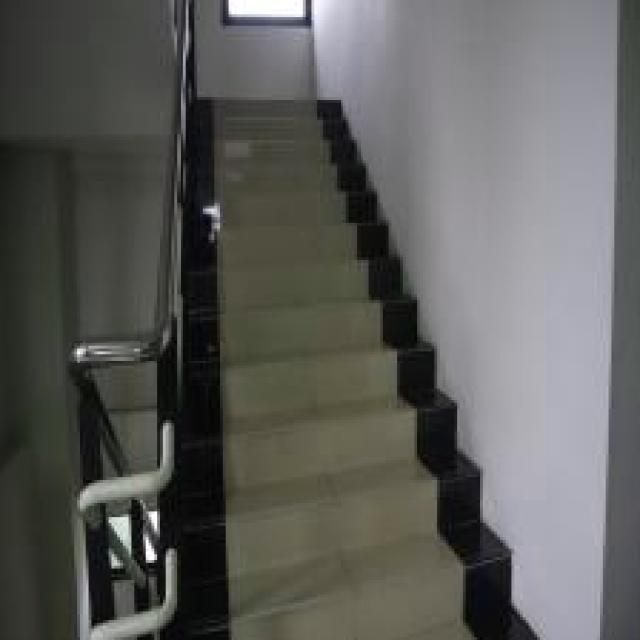upstair: (178, 146, 481, 640)
